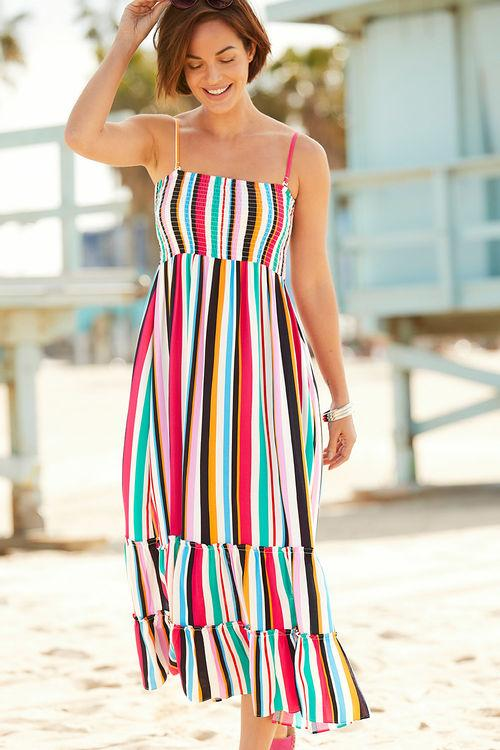dress: (117, 113, 377, 731)
